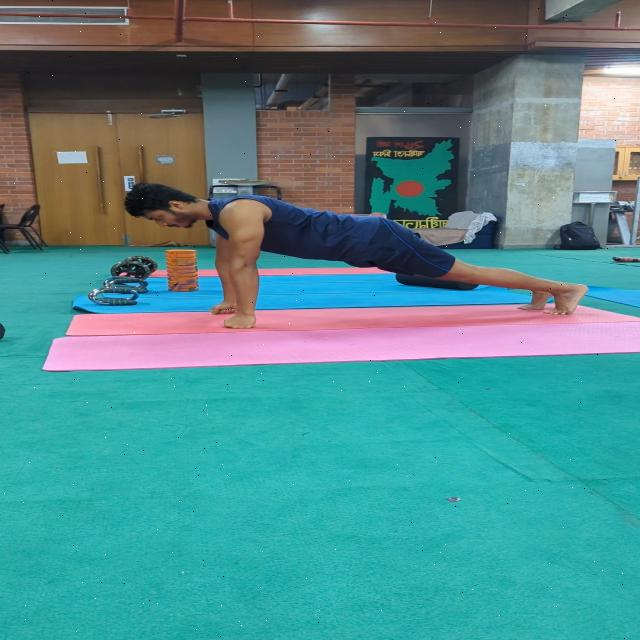Normal_PushUps: (115, 178, 592, 355)
